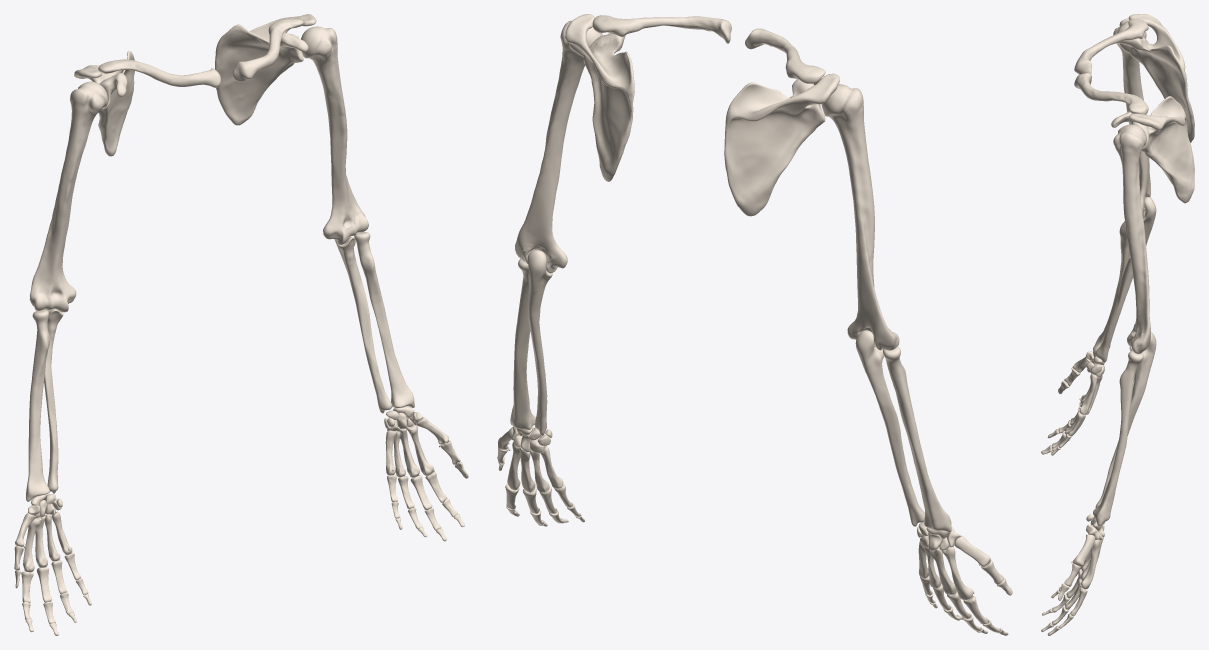
The model's file is overview-upper-limb.glb.
The picture shows the model from 3 angles, left to right: view 1: azimuth 30°, elevation 25°; view 2: azimuth 150°, elevation 25°; view 3: azimuth 270°, elevation 25°; orthographic projection. The views are drawn at different scales.
Visible parts, largest first — view 1: Humerus.r, Humerus.l, Scapula.l, Radius.r, Scapula.r, Radius.l, Ulna.l, Ulna.r, Clavicle.r, Clavicle.l; view 2: Scapula.r, Humerus.r, Scapula.l, Humerus.l, Ulna.r, Radius.r, Ulna.l, Radius.l, Clavicle.l, Clavicle.r; view 3: Humerus.l, Scapula.l, Scapula.r, Radius.l, Humerus.r, Ulna.r, Ulna.l, Clavicle.r, Clavicle.l, Radius.r, 2nd metacarpal bone.l, 1st metacarpal bone.l (+1 smaller).
Boxes of the visible parts, x1=… form: Humerus.r: x1=29, y1=81, x2=107, y2=312; Humerus.l: x1=301, y1=26, x2=368, y2=244; Scapula.l: x1=215, y1=14, x2=316, y2=125; Radius.r: x1=26, y1=309, x2=49, y2=501; Scapula.r: x1=74, y1=51, x2=134, y2=156; Radius.l: x1=354, y1=232, x2=414, y2=407; Ulna.l: x1=334, y1=236, x2=392, y2=413; Ulna.r: x1=43, y1=308, x2=63, y2=493; Clavicle.r: x1=98, y1=59, x2=220, y2=87; Clavicle.l: x1=232, y1=18, x2=303, y2=81; Scapula.r: x1=724, y1=73, x2=839, y2=216; Humerus.r: x1=821, y1=84, x2=899, y2=350; Scapula.l: x1=565, y1=14, x2=634, y2=181; Humerus.l: x1=515, y1=20, x2=602, y2=273; Ulna.r: x1=855, y1=330, x2=924, y2=526; Radius.r: x1=883, y1=346, x2=951, y2=531; Ulna.l: x1=527, y1=250, x2=552, y2=435; Radius.l: x1=510, y1=259, x2=535, y2=429; Clavicle.l: x1=592, y1=15, x2=731, y2=43; Clavicle.r: x1=745, y1=28, x2=825, y2=83; Humerus.l: x1=1113, y1=124, x2=1150, y2=353; Scapula.l: x1=1111, y1=96, x2=1194, y2=203; Scapula.r: x1=1116, y1=14, x2=1194, y2=142; Radius.l: x1=1093, y1=351, x2=1143, y2=526; Humerus.r: x1=1113, y1=18, x2=1150, y2=218; Ulna.r: x1=1095, y1=196, x2=1156, y2=362; Ulna.l: x1=1095, y1=332, x2=1156, y2=507; Clavicle.r: x1=1074, y1=18, x2=1148, y2=74; Clavicle.l: x1=1074, y1=73, x2=1148, y2=114; Radius.r: x1=1093, y1=221, x2=1129, y2=352; 2nd metacarpal bone.l: x1=1081, y1=539, x2=1099, y2=589; 1st metacarpal bone.l: x1=1072, y1=534, x2=1094, y2=566.
Size of the model in its own units: 0.671 by 0.7236 by 0.2099.
